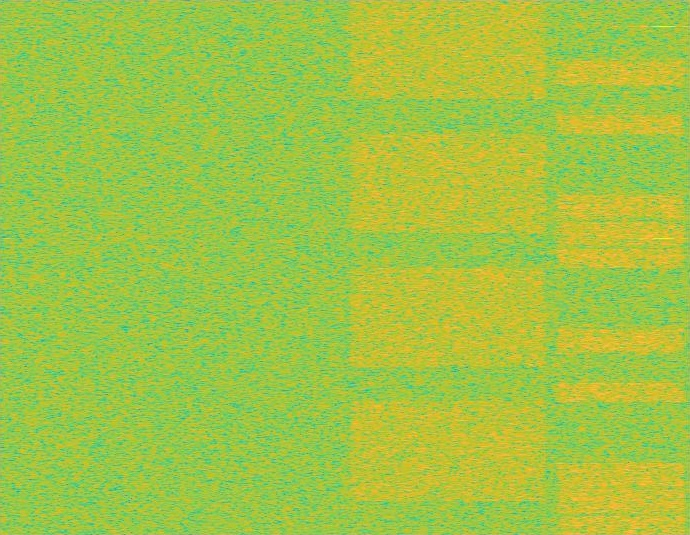5G: (345, 0, 552, 534)
LTE: (552, 0, 689, 534)
Radar: (657, 0, 671, 534)
